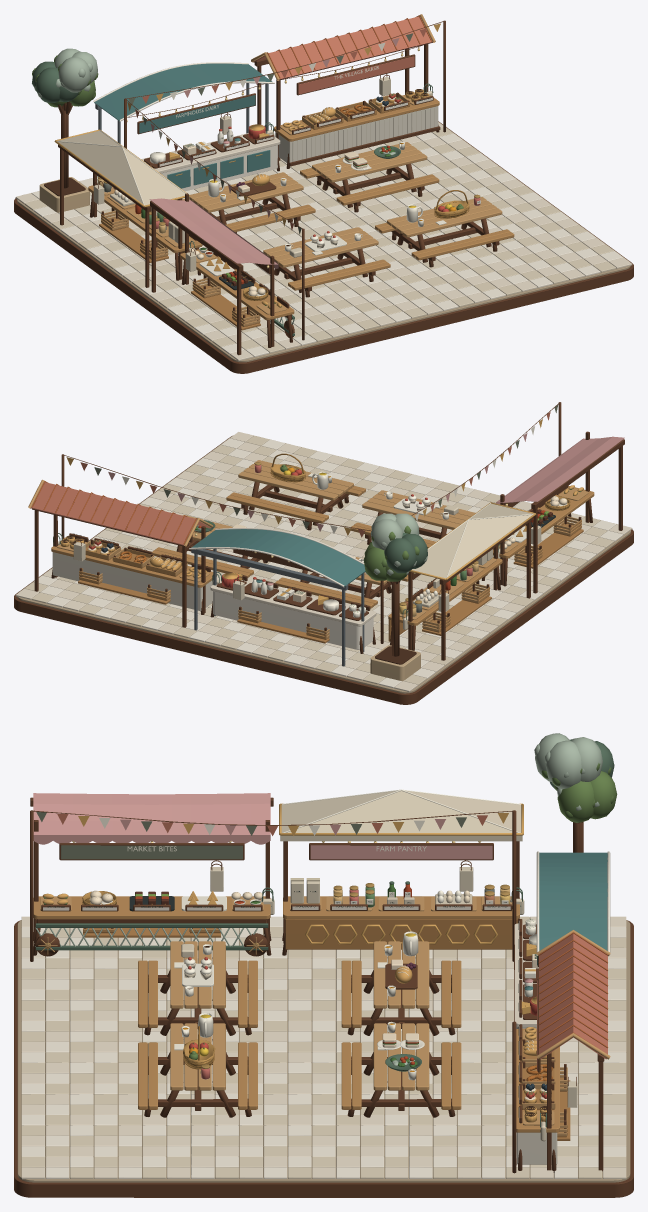
The model's file is sams-farmers-market.glb.
3 renders of one model, top to bottom at view 1: azimuth 30°, elevation 25°; view 2: azimuth 150°, elevation 25°; view 3: azimuth 270°, elevation 25°, orthographic. The views are drawn at different scales.
Parts seen in each view (by area): view 1: Sam's farmers-market; view 2: Sam's farmers-market; view 3: Sam's farmers-market.
Boxes of the visible parts, <box> form: Sam's farmers-market: <box>14,14,633,373</box>; Sam's farmers-market: <box>14,402,633,704</box>; Sam's farmers-market: <box>14,733,633,1197</box>.
Size of the model in its own units: 13 by 5.04 by 12.8.
